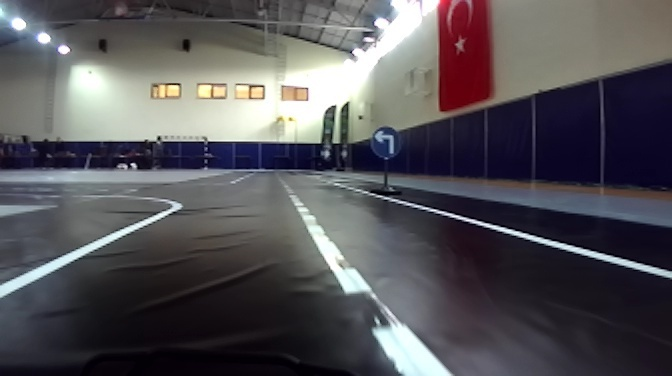sola_donus: (369, 128, 404, 157)
